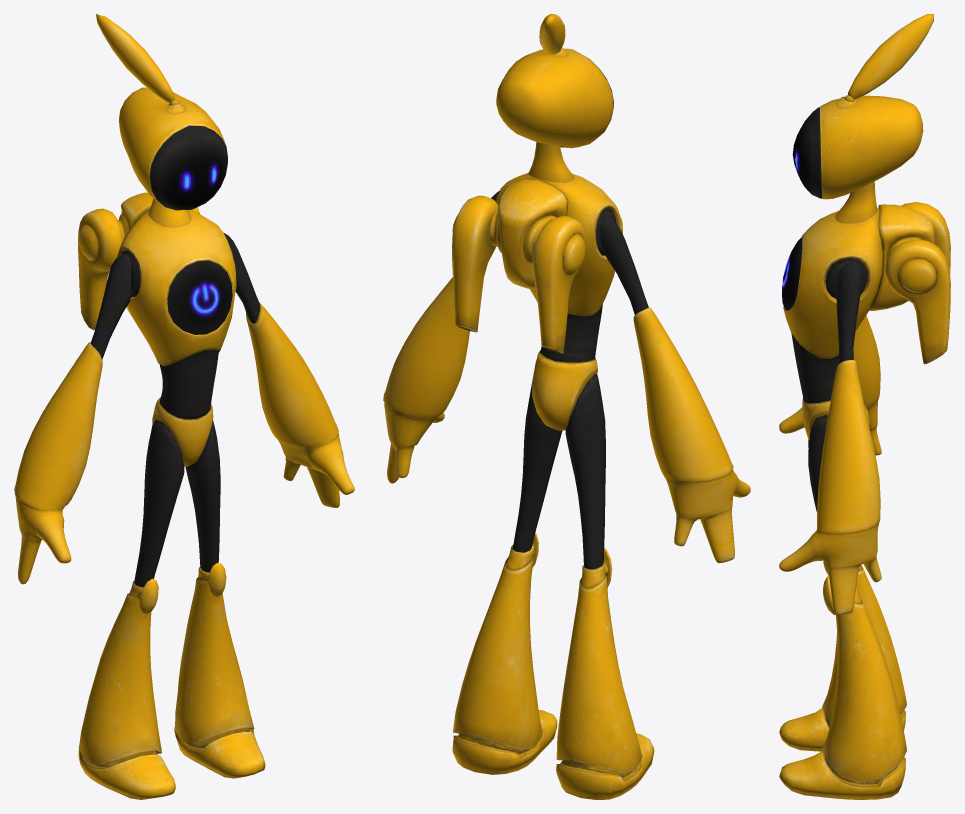
Rendered from robot2.glb.
3 renders of one model, left to right at view 1: azimuth 30°, elevation 25°; view 2: azimuth 150°, elevation 25°; view 3: azimuth 270°, elevation 25°, orthographic. The views are drawn at different scales.
Parts seen in each view (by area): view 1: Robo_AP_X1; view 2: Robo_AP_X1; view 3: Robo_AP_X1.
Part boxes in pixels (x1,y1,x2,y2): Robo_AP_X1: (14,14,354,799); Robo_AP_X1: (383,14,750,799); Robo_AP_X1: (779,14,950,799).
Bounding box in the file's own units: 0.8513 × 1.86 × 0.3955.
1 material, 1 textured.
